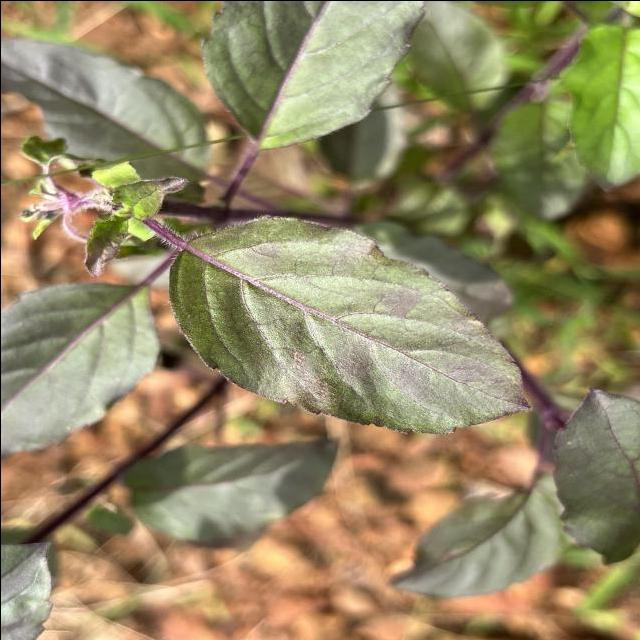Ocimum tenuiflorum: (159, 211, 535, 437)
